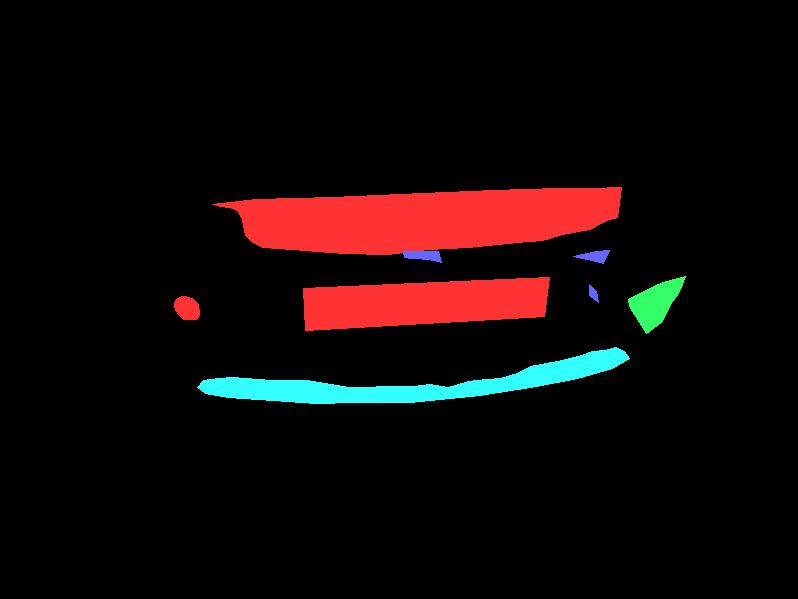Broken part: (628, 276, 685, 333)
Flaking: (197, 347, 629, 403)
Missing part: (212, 187, 621, 254), (303, 277, 549, 330), (174, 296, 199, 319)
Scratch: (573, 250, 609, 263), (403, 251, 441, 262), (589, 284, 598, 302)
